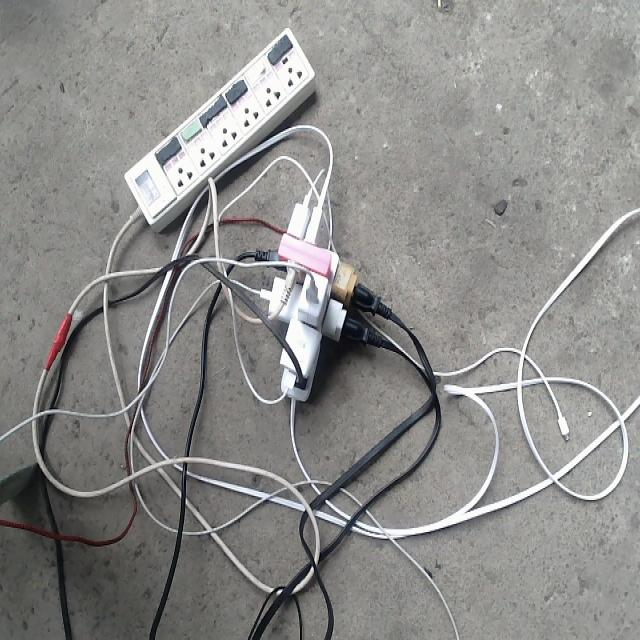-: (254, 191, 368, 404)
